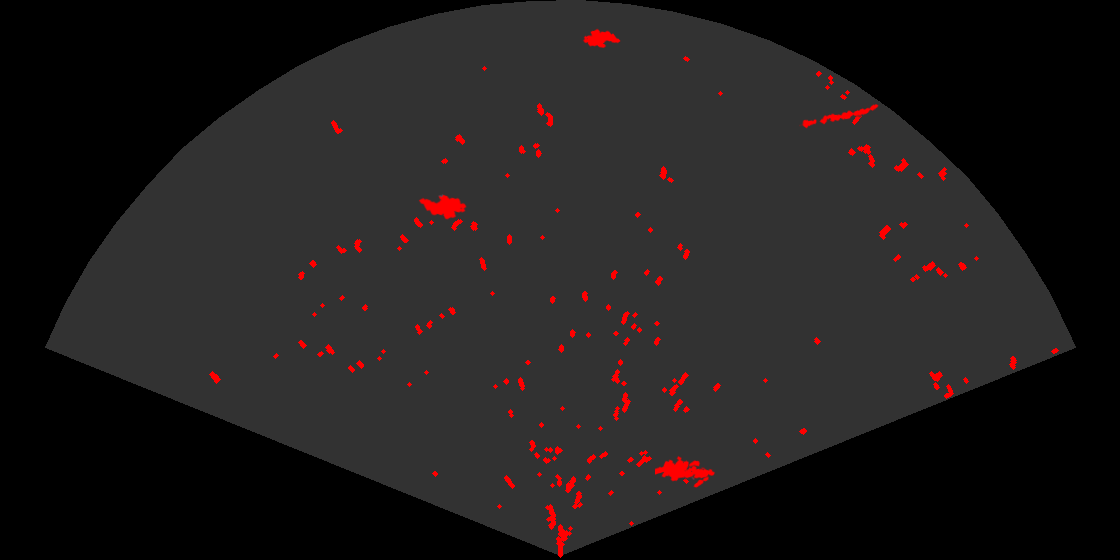AUV: (417, 193, 468, 221), (581, 27, 622, 50)
ball: (681, 459, 710, 489)
chain: (799, 103, 881, 130)
frogman: (655, 454, 717, 483)
